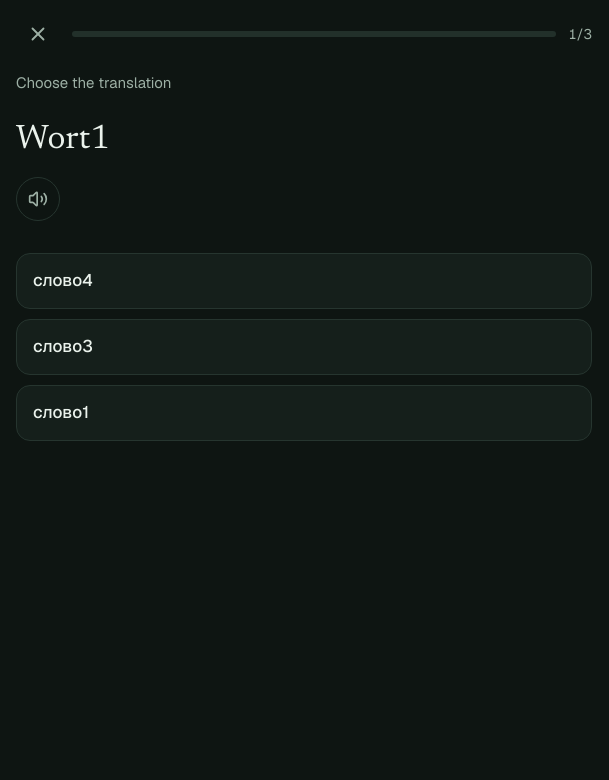
Test: answering a choice question › a learned word says so instead of the box
Click the button "слово1" at (61, 412), box [16,385,592,441]
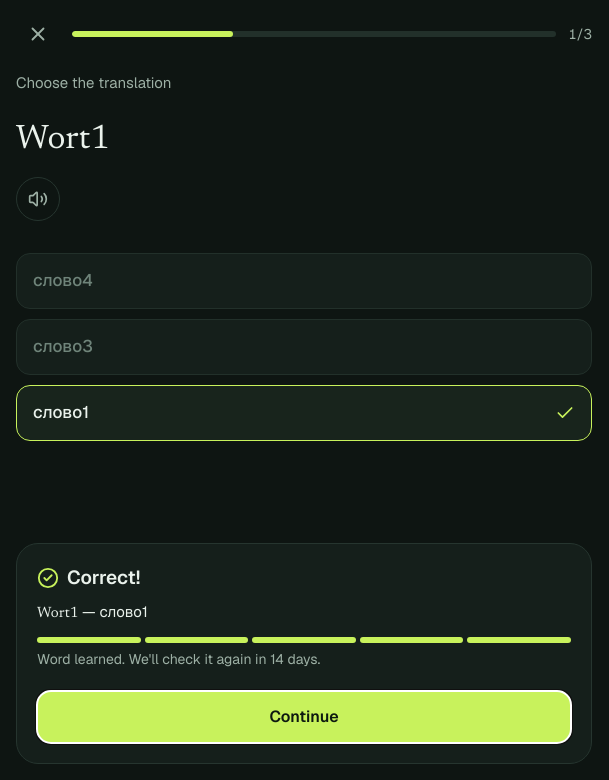
Check: the text "Word learned. We'll check it again in 14 days." is shown, box [37,650,320,668]
